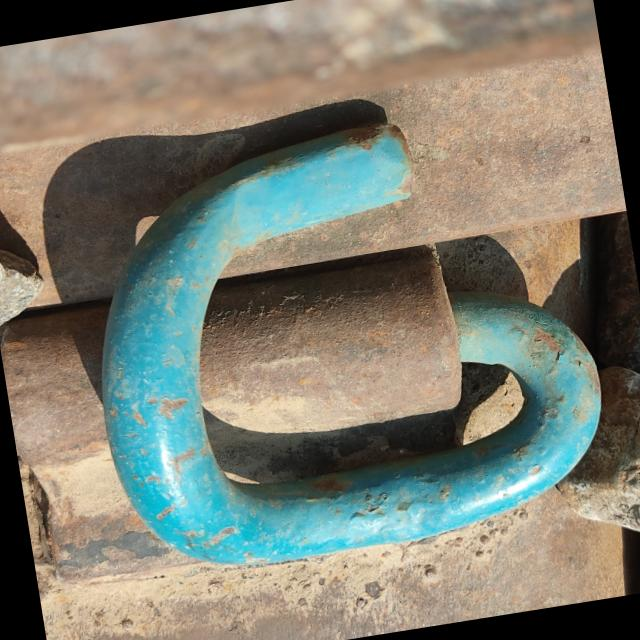track_bolt: (56, 87, 628, 596)
